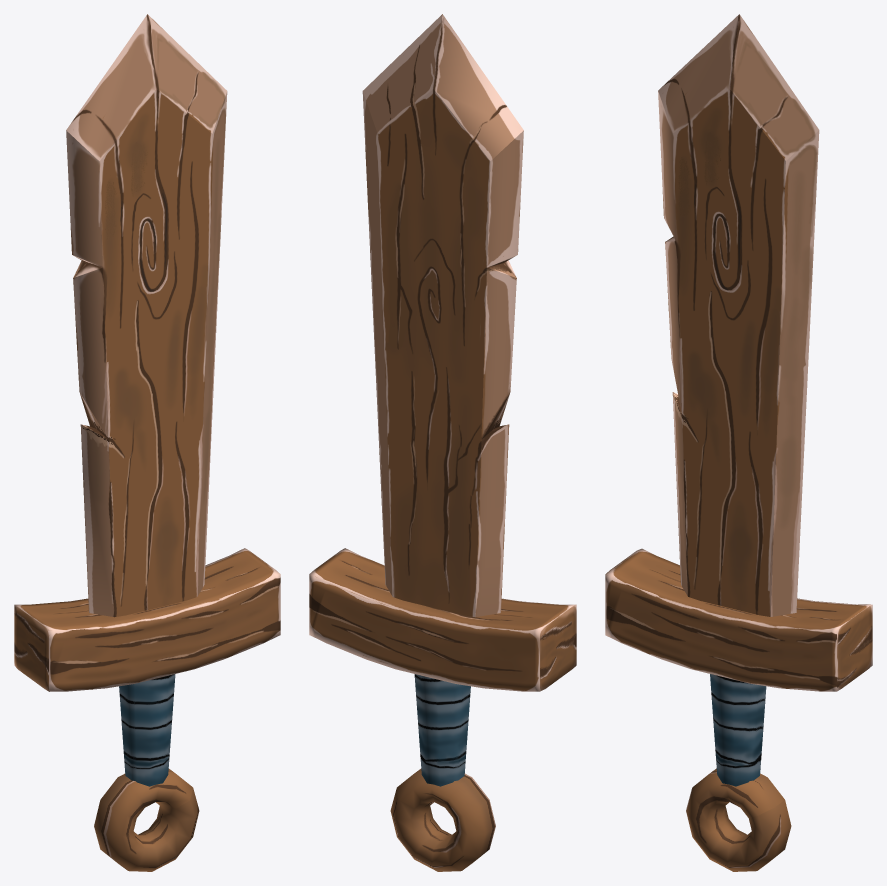
The model's file is wood-sword.glb.
3 renders of one model, left to right at view 1: azimuth 30°, elevation 25°; view 2: azimuth 150°, elevation 25°; view 3: azimuth 330°, elevation 25°, orthographic.
Visible parts, largest first — view 1: Object_4; view 2: Object_4; view 3: Object_4.
Part boxes in pixels (x1,y1,x2,y2): Object_4: (14,14,280,871); Object_4: (309,14,576,871); Object_4: (605,14,872,871).
Bounding box in the file's own units: 0.3095 × 1.09 × 0.0822.
Materials: 1 (1 with a texture image).
